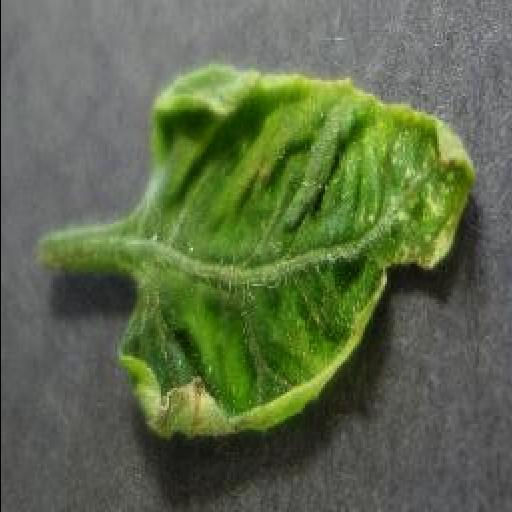disease_tomato: (114, 67, 476, 444)
